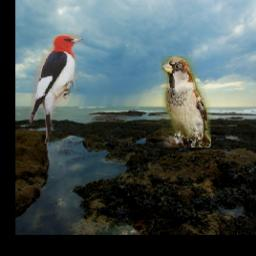Sparrow: (161, 57, 211, 149)
Woodpecker: (30, 33, 84, 144)
